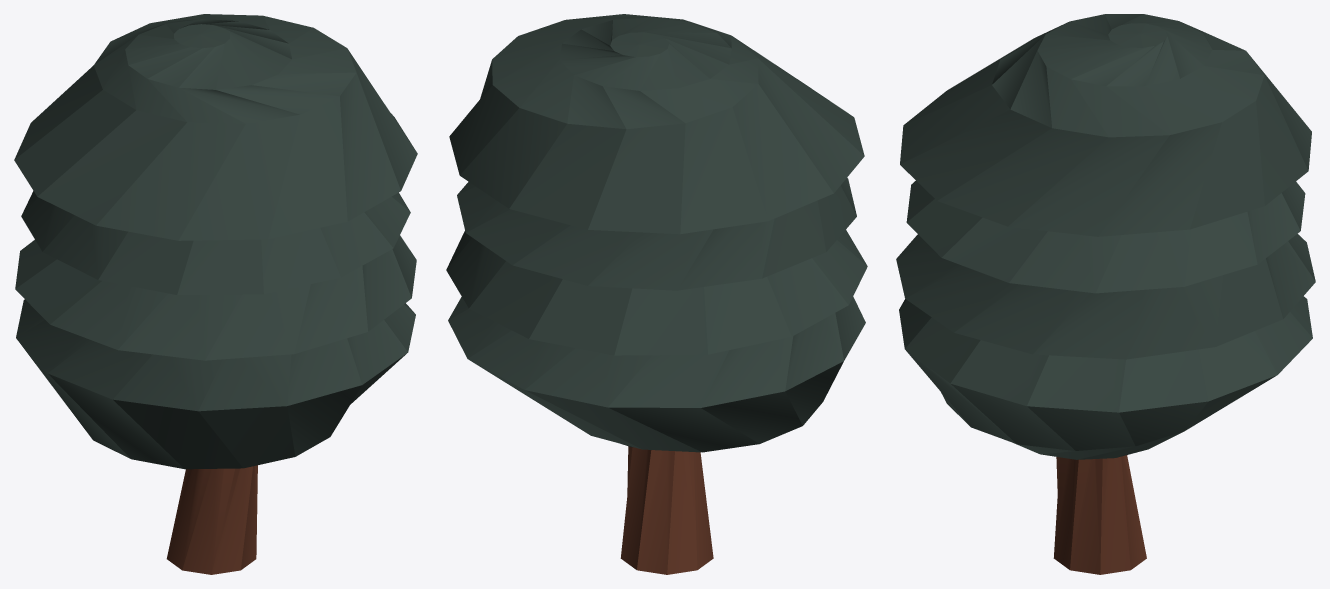
File: preMinorTree.fbx
3 renders of one model, left to right at view 1: azimuth 30°, elevation 25°; view 2: azimuth 150°, elevation 25°; view 3: azimuth 270°, elevation 25°, orthographic. The views are drawn at different scales.
Parts seen in each view (by area): view 1: Model; view 2: Model; view 3: Model.
Part boxes in pixels (x1,y1,x2,y2): Model: (14, 14, 417, 574); Model: (446, 14, 867, 574); Model: (896, 14, 1315, 574).
Size of the model in its own units: 283 by 388 by 281.
